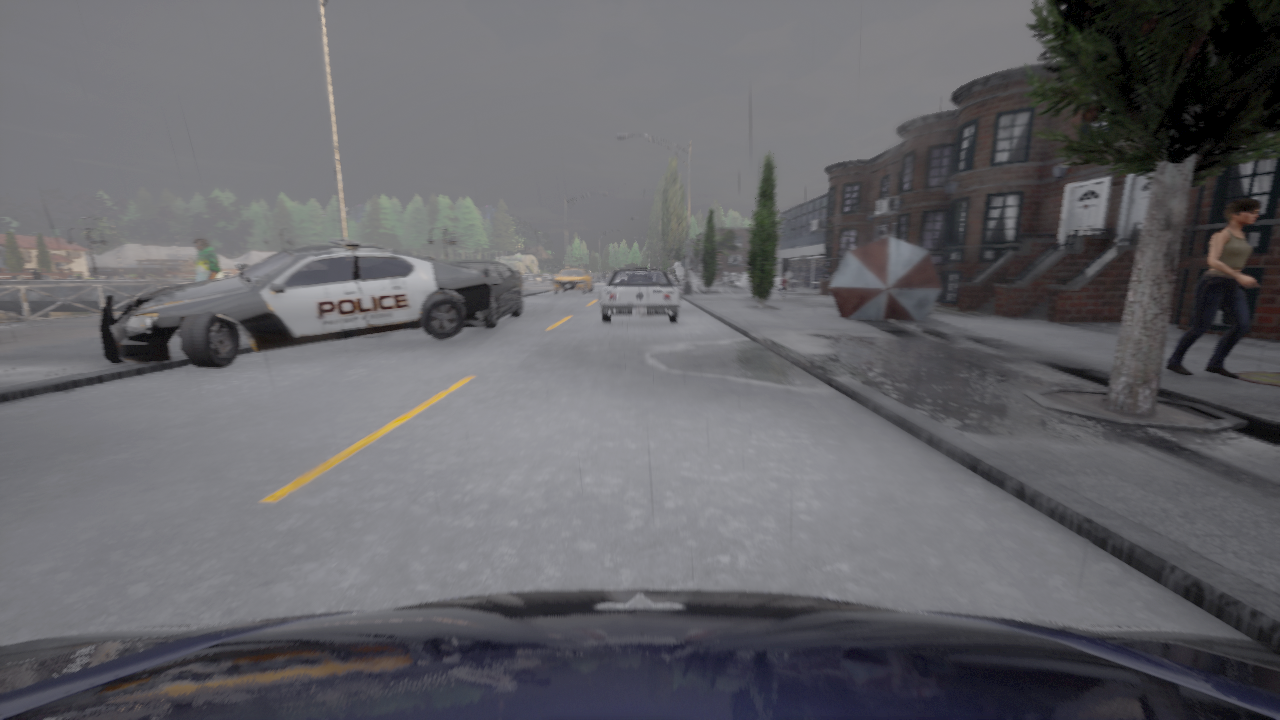cyclist: (0, 588, 1279, 719), (99, 239, 493, 367), (412, 261, 522, 328), (599, 269, 680, 322), (553, 268, 591, 294), (633, 268, 646, 269)
pedestrian: (1164, 199, 1261, 378), (192, 238, 223, 282), (778, 273, 787, 300), (749, 284, 758, 302)
